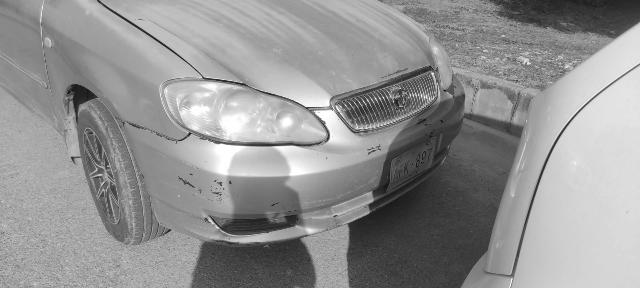Number: (392, 146, 434, 185)
